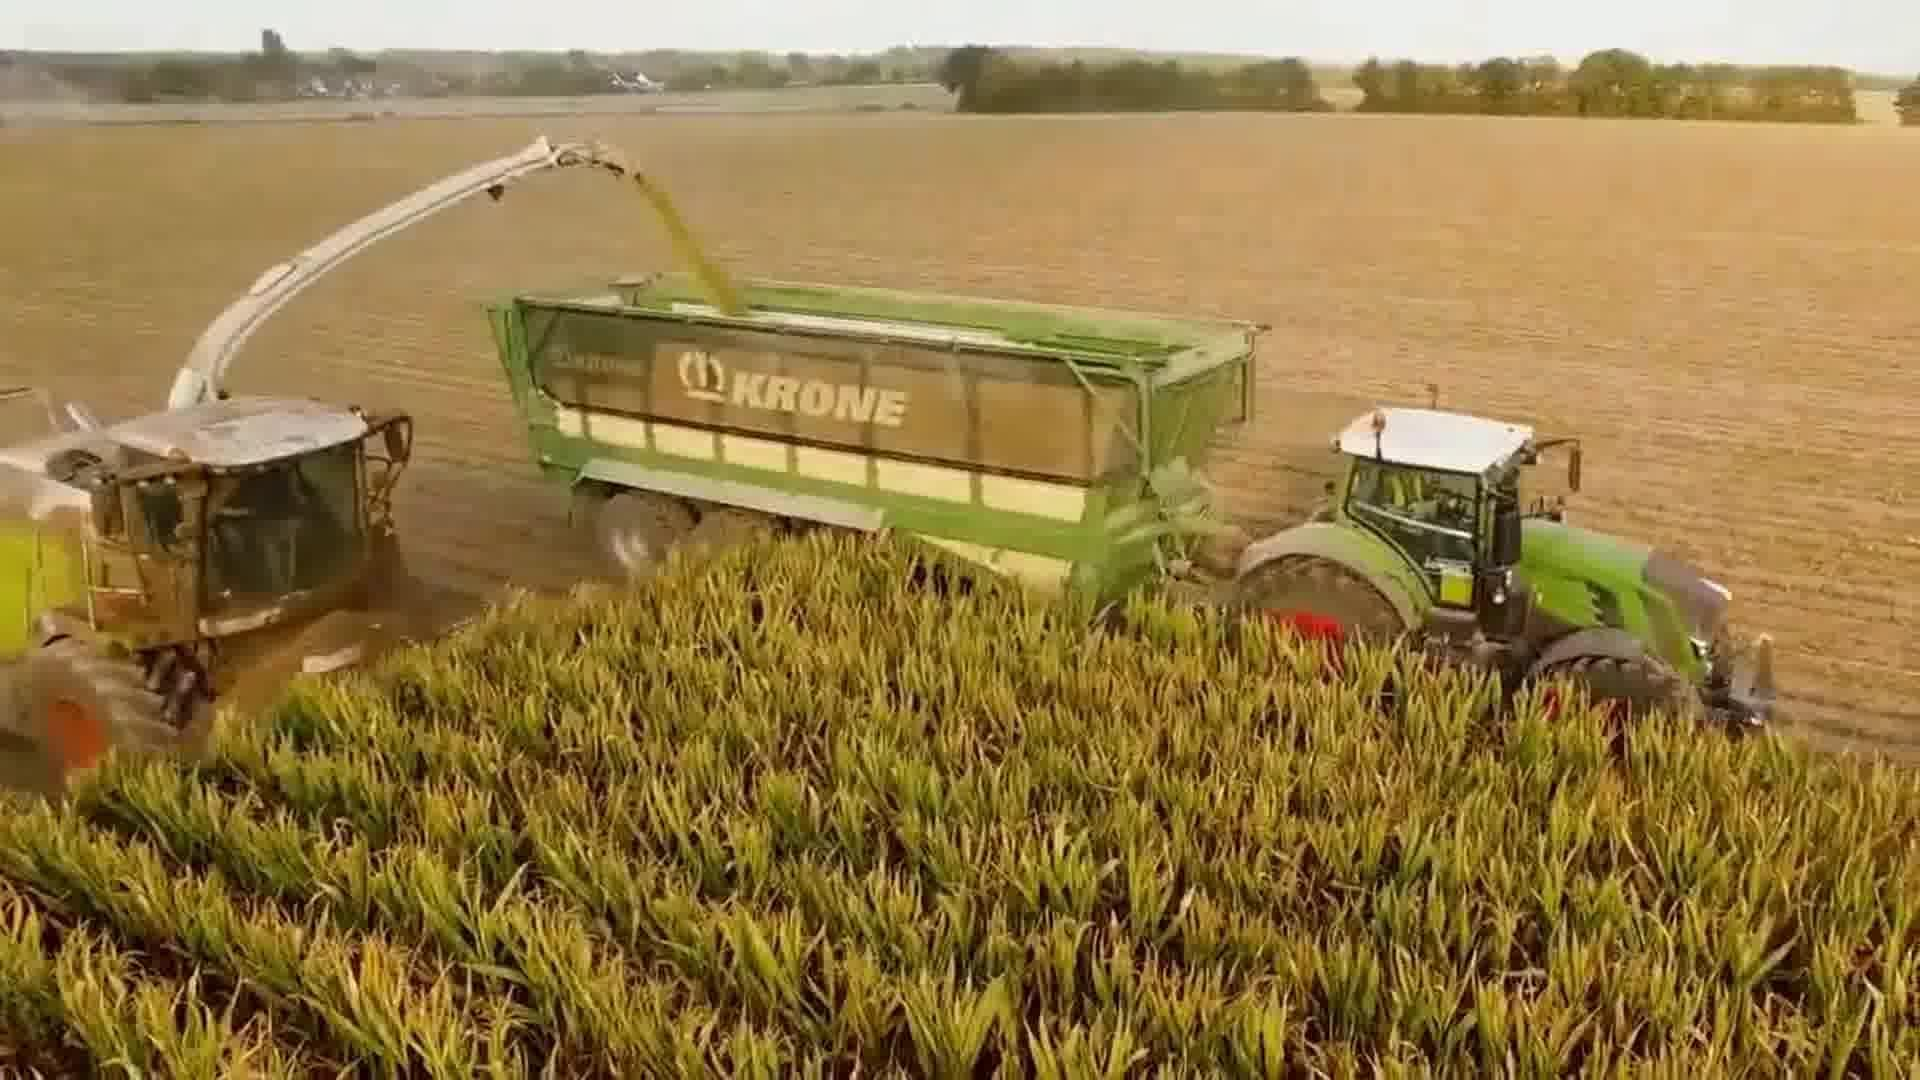combine harvester: (0, 124, 646, 803)
tractor: (1232, 393, 1788, 770)
trailer: (484, 257, 1269, 666)
